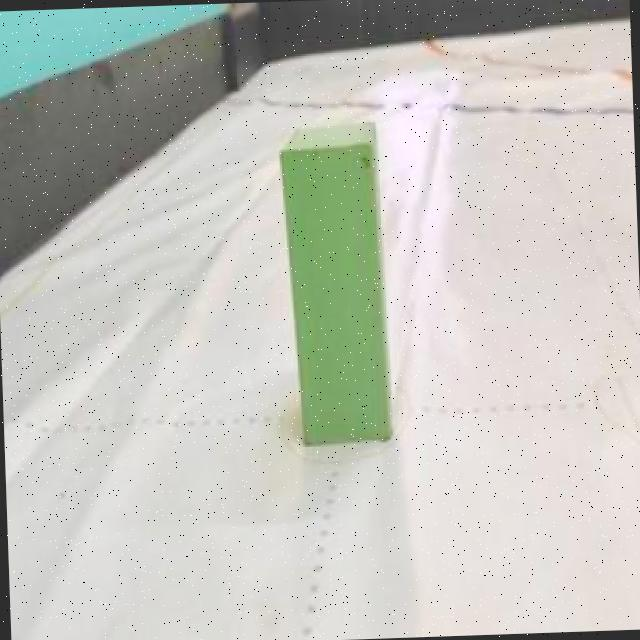greenbox: (276, 117, 392, 447)
